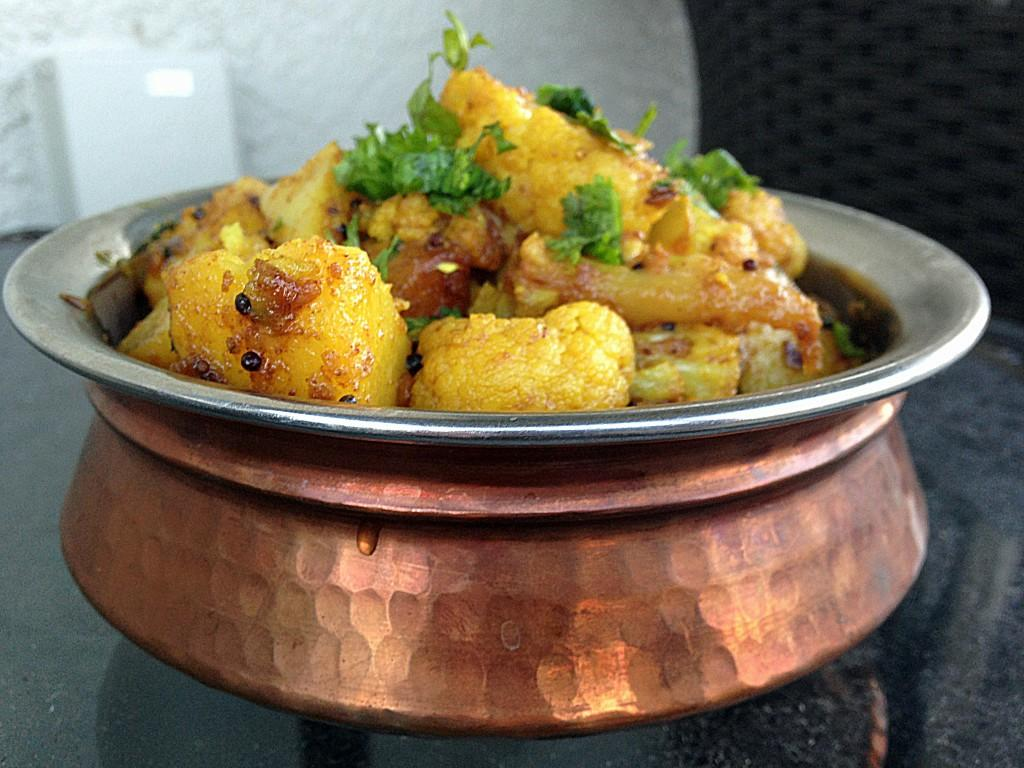AlooGobi: (116, 65, 854, 408)
